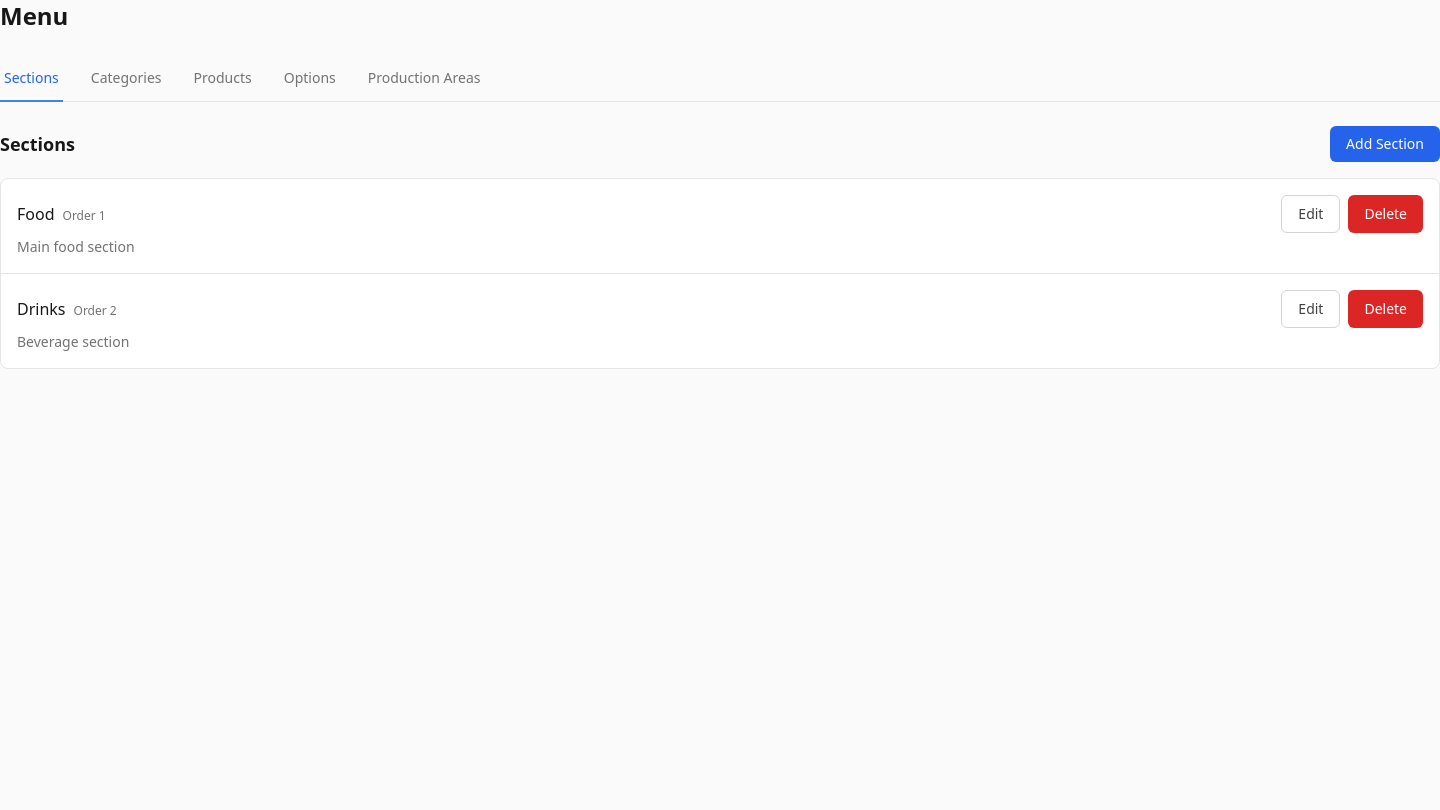
MenuPage › opens the section create modal when Add Section is clicked
The width and height of the screenshot is (1440, 810).
Check: the heading "Sections" is shown, box [0,130,75,158]
What coordinates should you click on to do the following:
click the button "Add Section"
I would click on:
 (1385, 144)
Its box is [1330,126,1439,162].
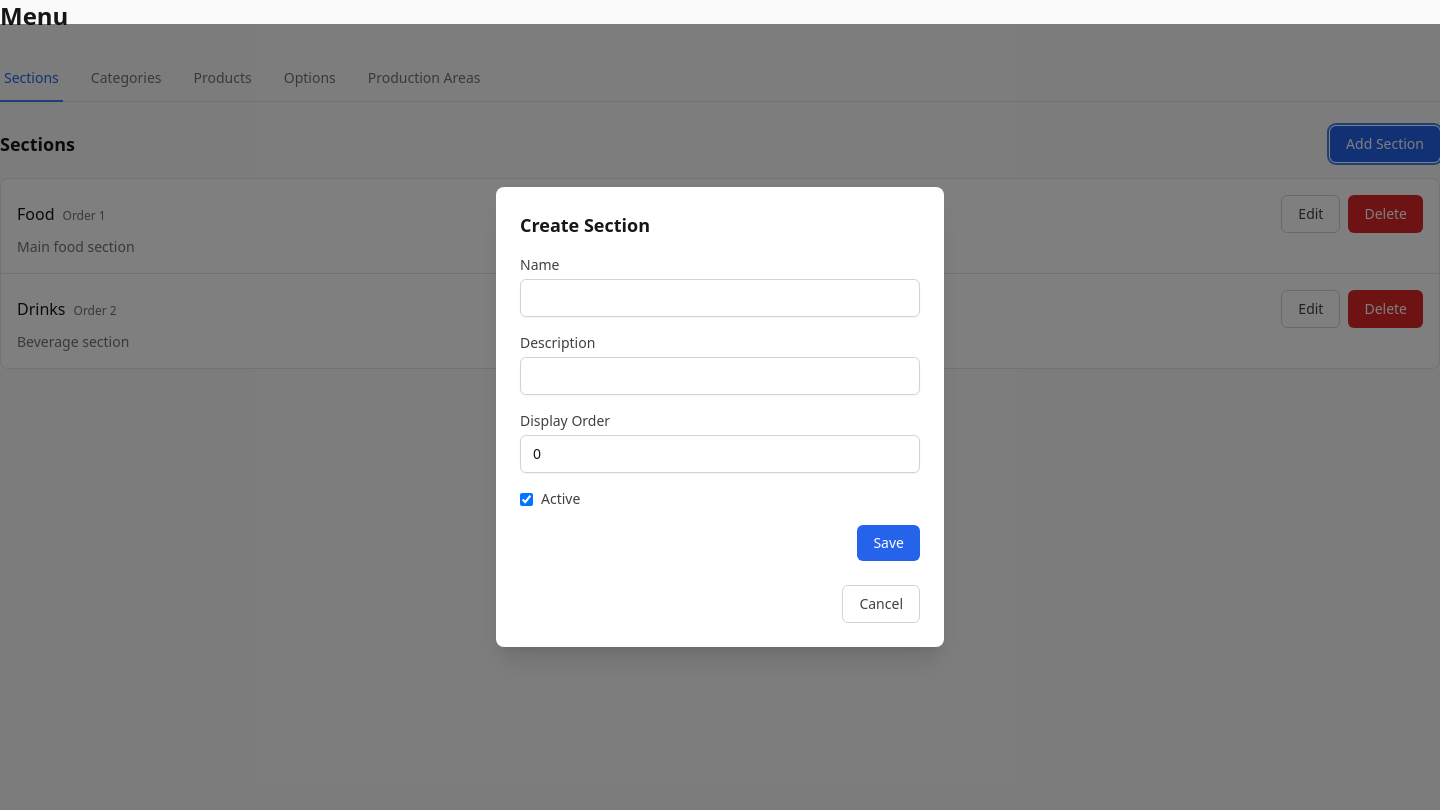
Check: the dialog is shown
Check: the heading "Create Section" is shown, box [520,213,650,237]
